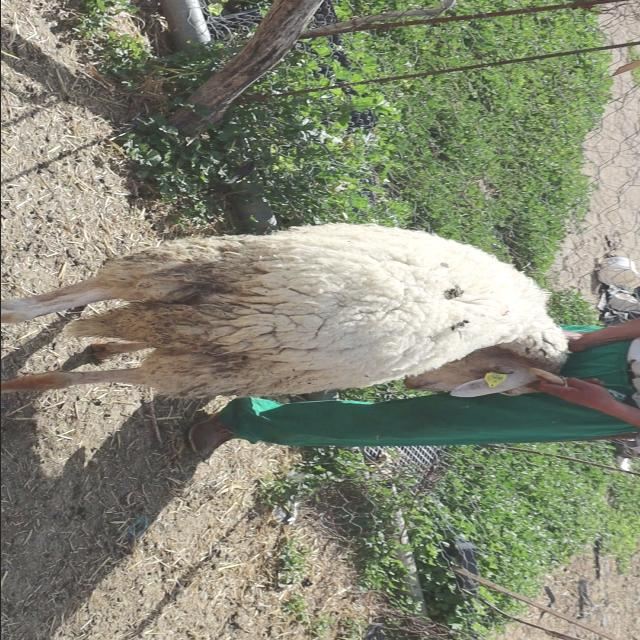Score_4: (1, 223, 568, 397)
